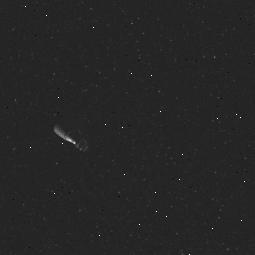debris: (46, 107, 102, 160)
